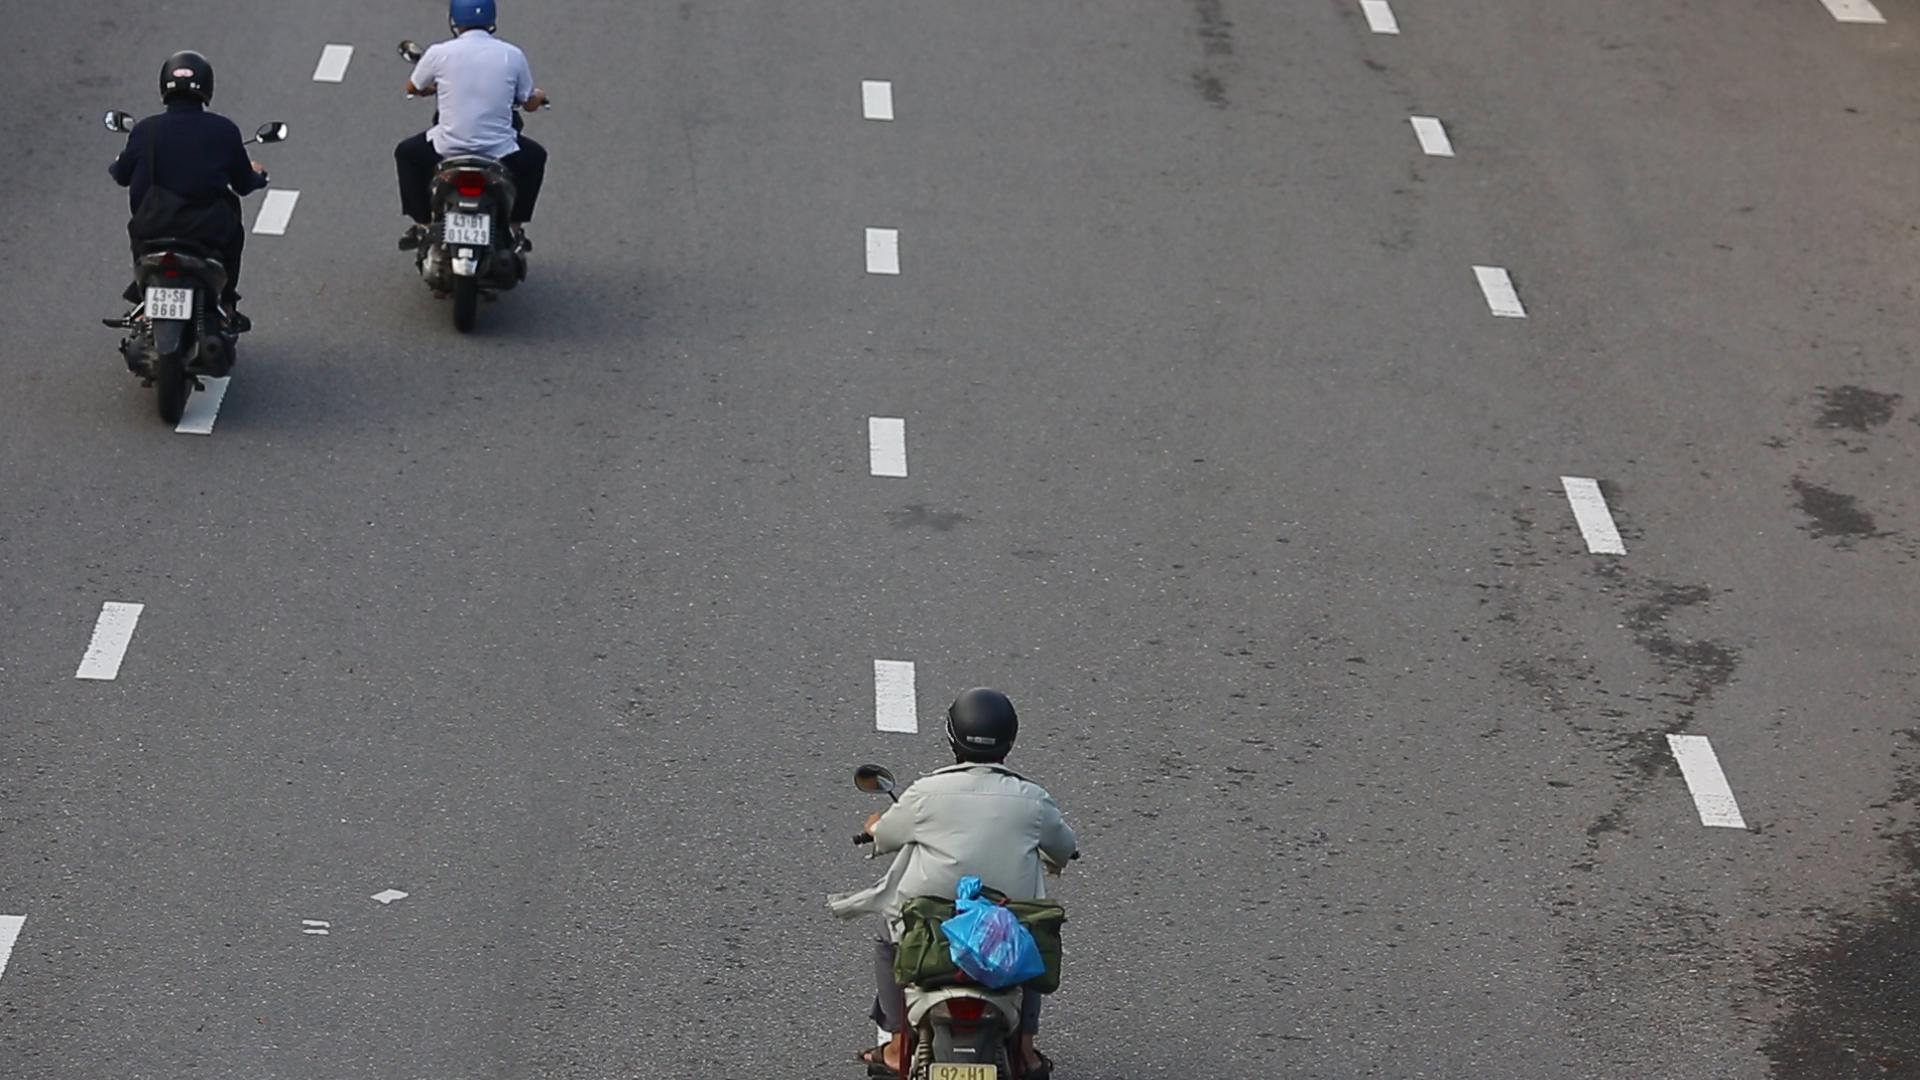motobike: (96, 37, 298, 434)
